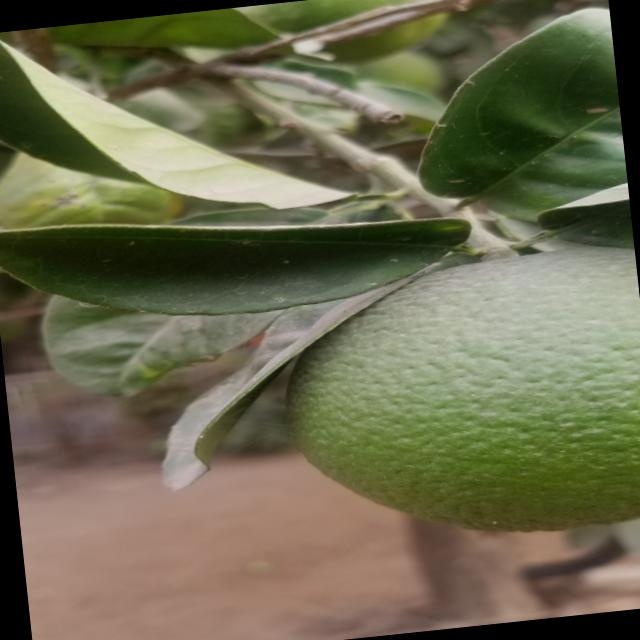agrume: (263, 239, 640, 554)
